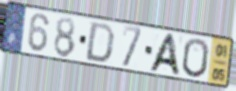6: (26, 12, 51, 53)
7: (121, 23, 143, 70)
8: (52, 15, 79, 59)
A: (146, 32, 182, 78)
D: (83, 20, 117, 64)
O: (181, 37, 211, 79)
